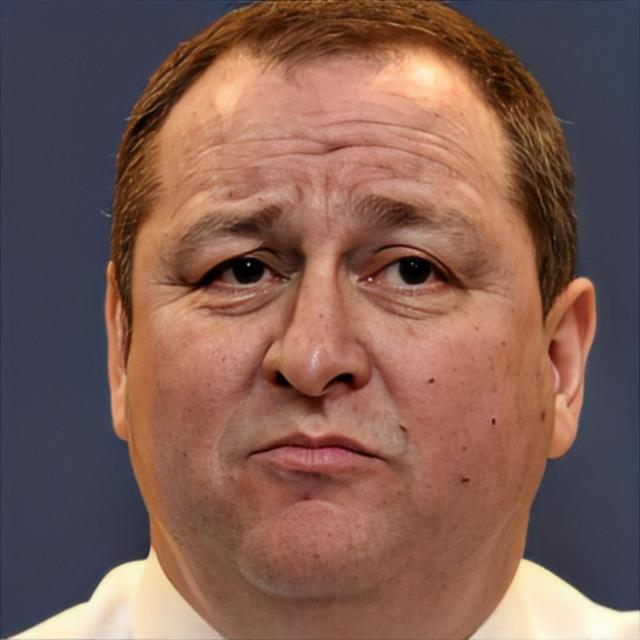sad: (122, 40, 540, 603)
